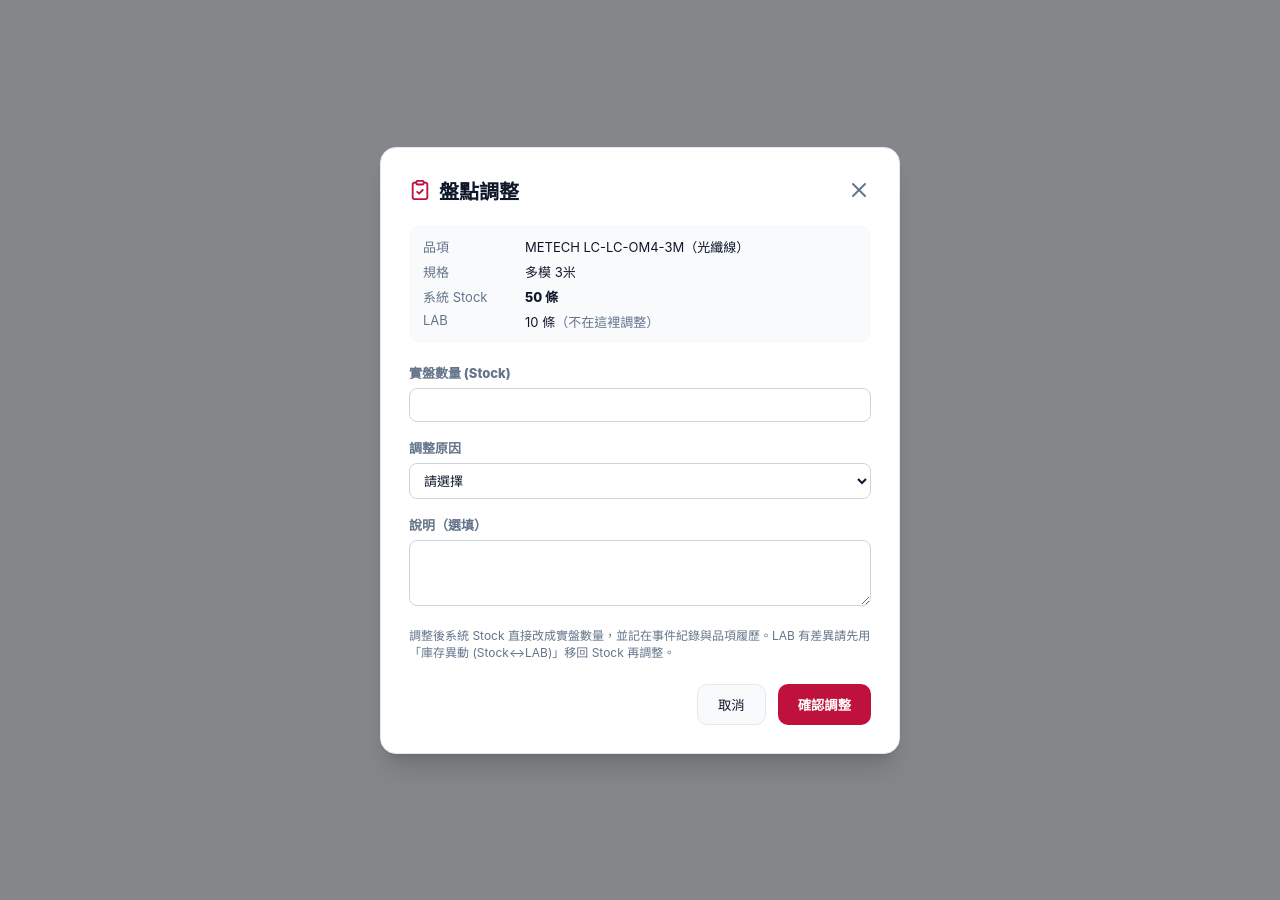
Scenario: 調整視窗 › 擋下不完整的輸入：實盤「」原因「遺失」
Select "遺失" in the dropdown labelled "調整原因" at (640, 480), box [409,462,871,498]
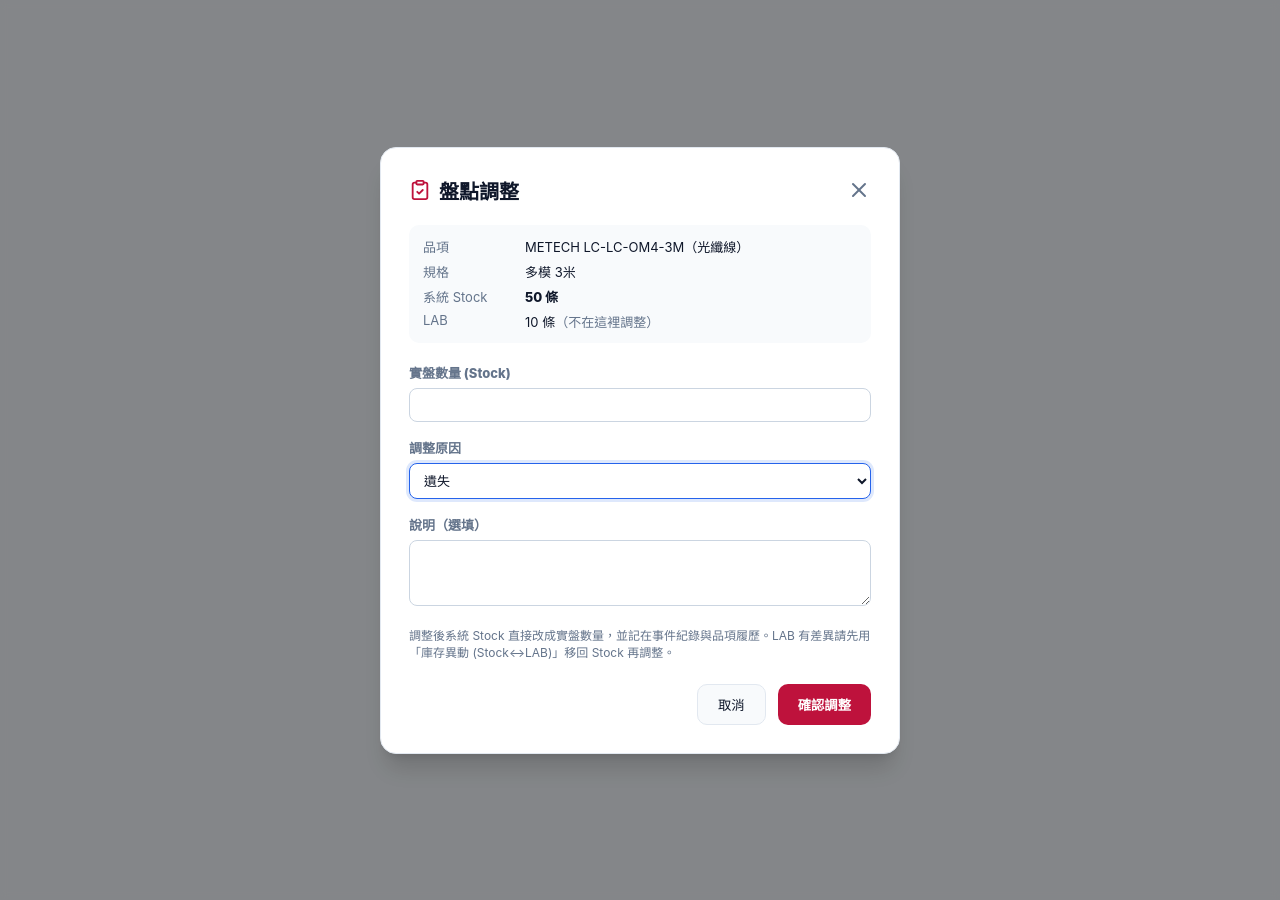
Click the button "確認調整".
click(824, 704)  # box [778,684,871,724]
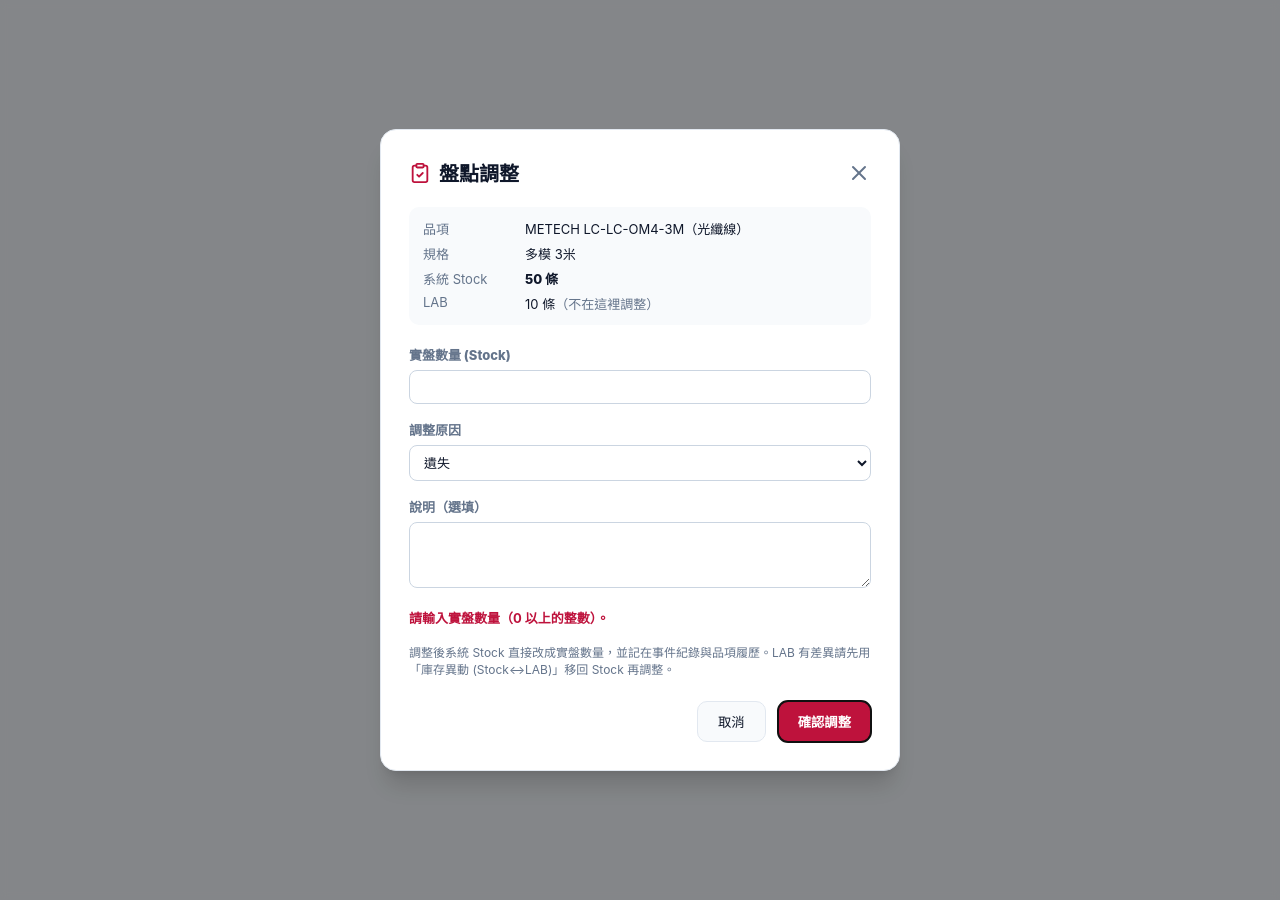
Result: the message shows "請輸入實盤數量" at [409,610,609,626]
